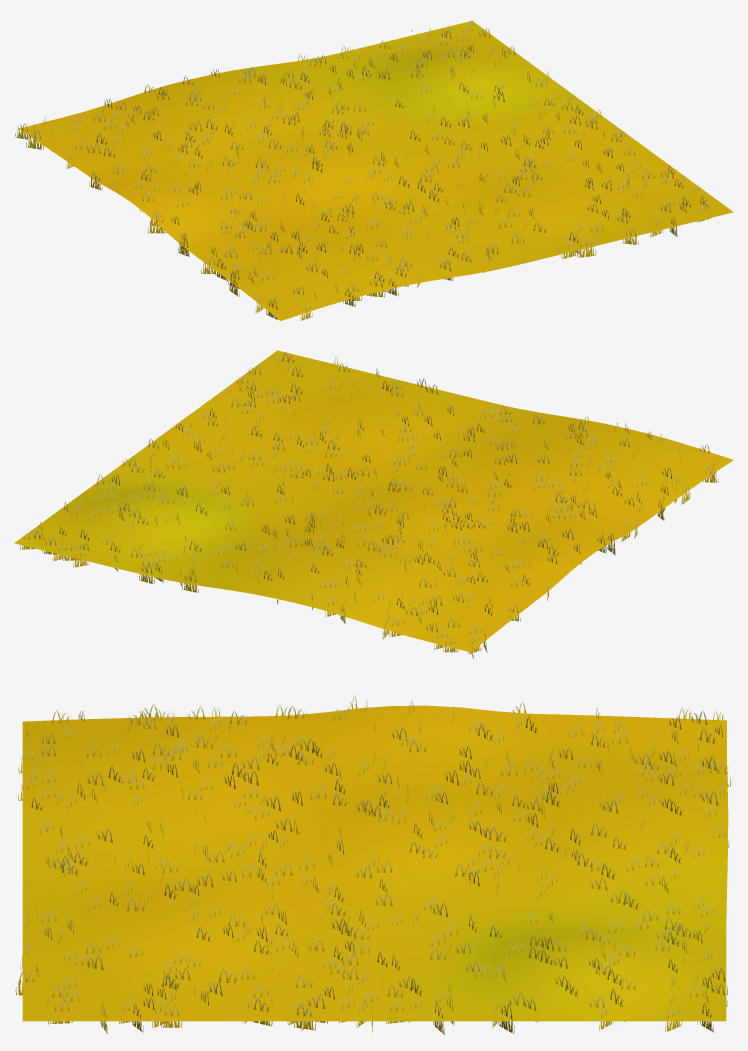
The model's file is Grassfbx3.fbx.
3 renders of one model, top to bottom at view 1: azimuth 30°, elevation 25°; view 2: azimuth 150°, elevation 25°; view 3: azimuth 270°, elevation 25°, orthographic. The views are drawn at different scales.
Visible parts, largest first — view 1: Plane.002; view 2: Plane.002; view 3: Plane.002.
Part boxes in pixels (x1,y1,x2,y2): Plane.002: (19,21,733,320); Plane.002: (14,350,733,652); Plane.002: (22,705,728,1021).
Size of the model in its own units: 2357 by 170 by 2356.
1 material, 1 textured.
